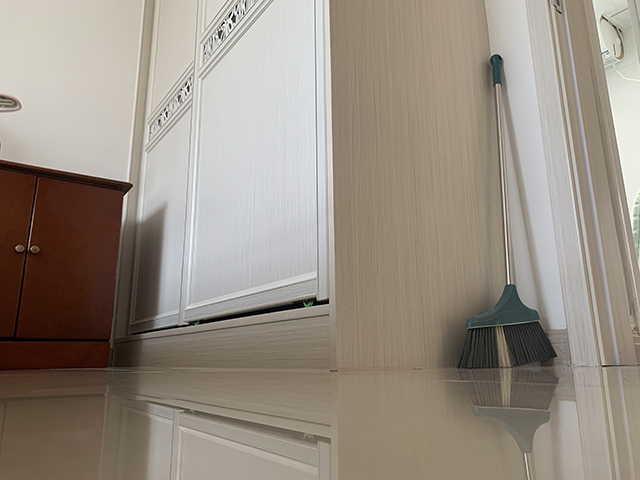cabinet: (110, 1, 517, 372), (1, 159, 133, 371)
